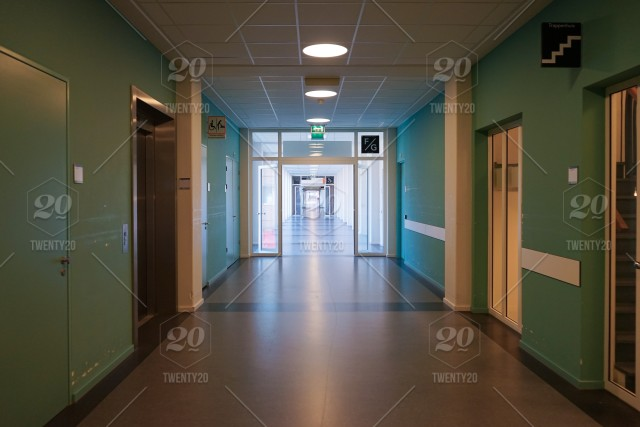door_handle: (624, 249, 640, 271), (59, 254, 74, 274), (255, 209, 264, 218), (204, 220, 210, 229), (231, 214, 237, 219)
elevator_panel: (121, 224, 132, 256)
